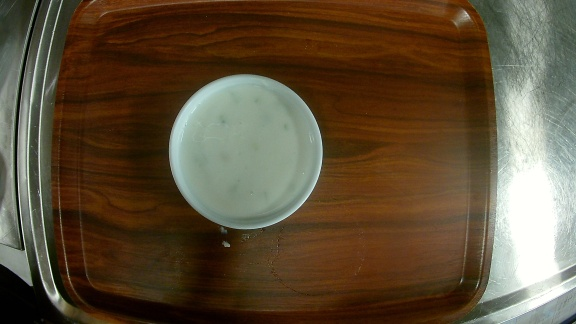cacik: (168, 73, 324, 231)
